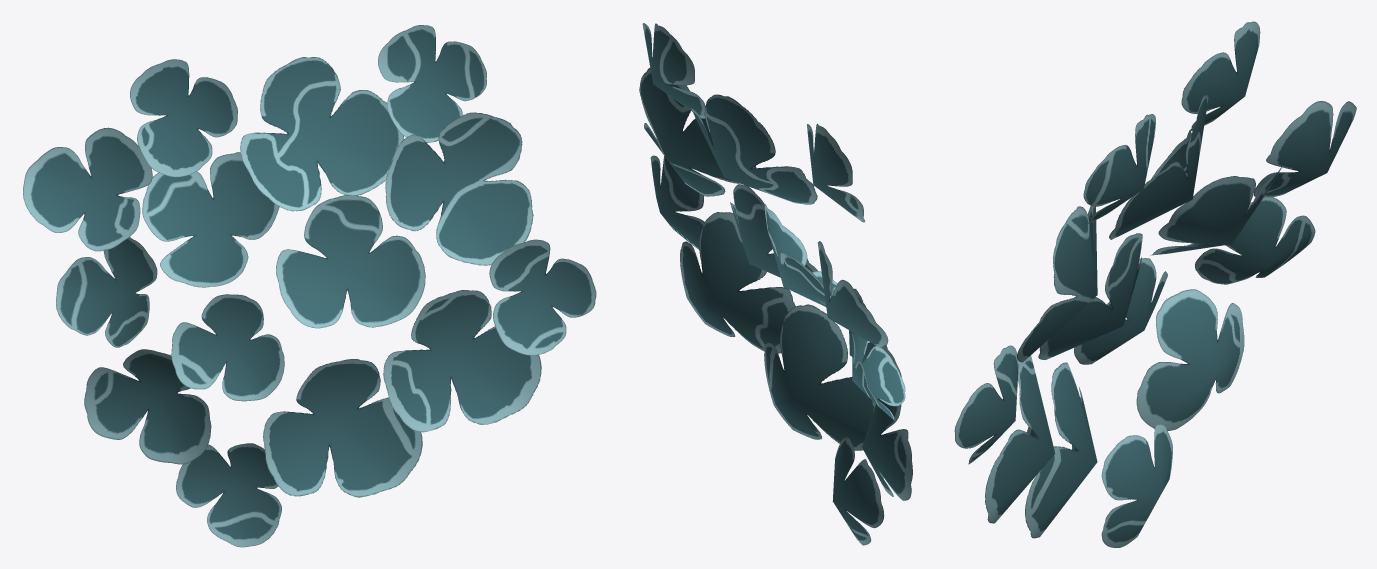
The model's file is flower4.glb.
3 renders of one model, left to right at view 1: azimuth 30°, elevation 25°; view 2: azimuth 150°, elevation 25°; view 3: azimuth 270°, elevation 25°, orthographic. The views are drawn at different scales.
Parts seen in each view (by area): view 1: node_id5; view 2: node_id5; view 3: node_id5.
Boxes of the visible parts, left/top/right/bottom form: node_id5: left=23, top=25, right=596, bottom=547; node_id5: left=639, top=23, right=912, bottom=545; node_id5: left=954, top=21, right=1356, bottom=547.
Bounding box in the file's own units: 0.4667 × 0.5347 × 0.3667.
Materials: 1 (1 with a texture image).
